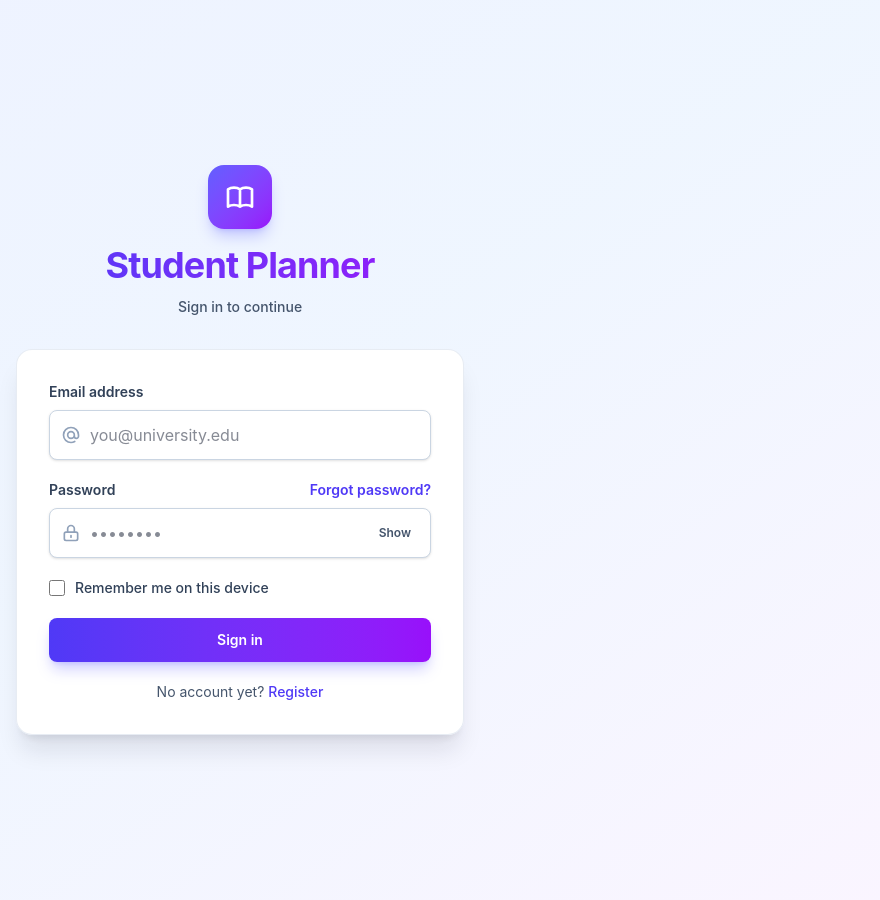
LoginPage › shows a top-right toast when login credentials are invalid
Type "test@example.com" into the field labelled "Email address".
click(240, 435); type("test@example.com")  # box x1=49 y1=410 x2=431 y2=460
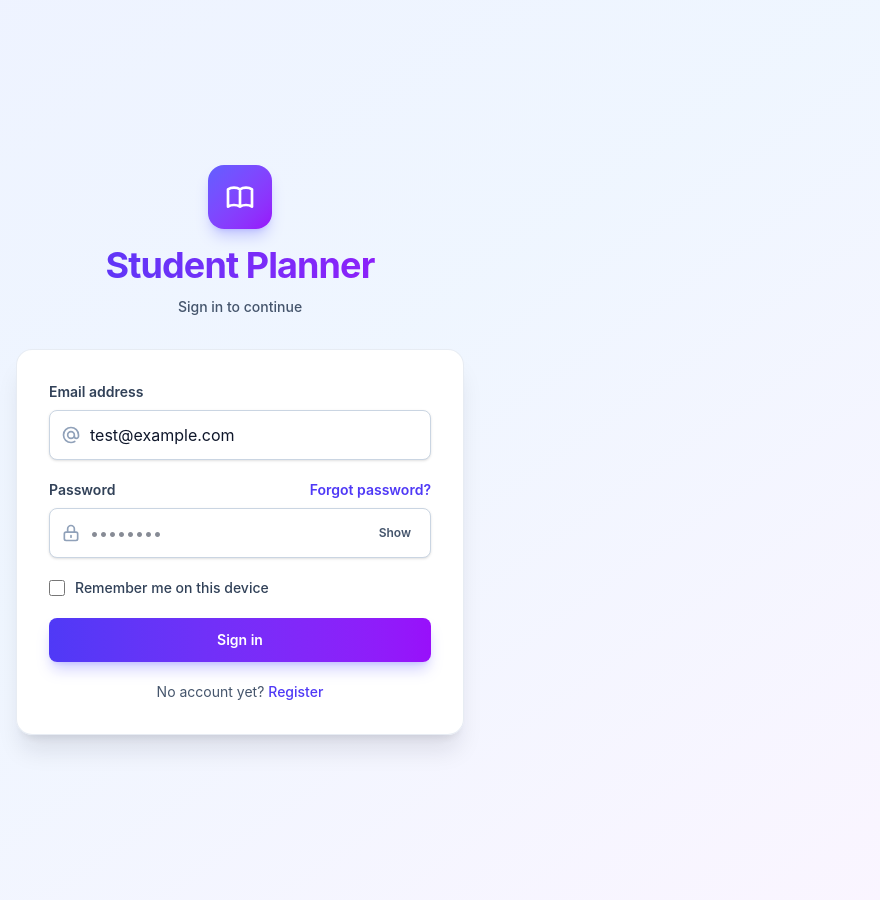
Type "wrongpassword" into the password field labelled "Password".
click(240, 533); type("wrongpassword")  # box x1=49 y1=508 x2=431 y2=558
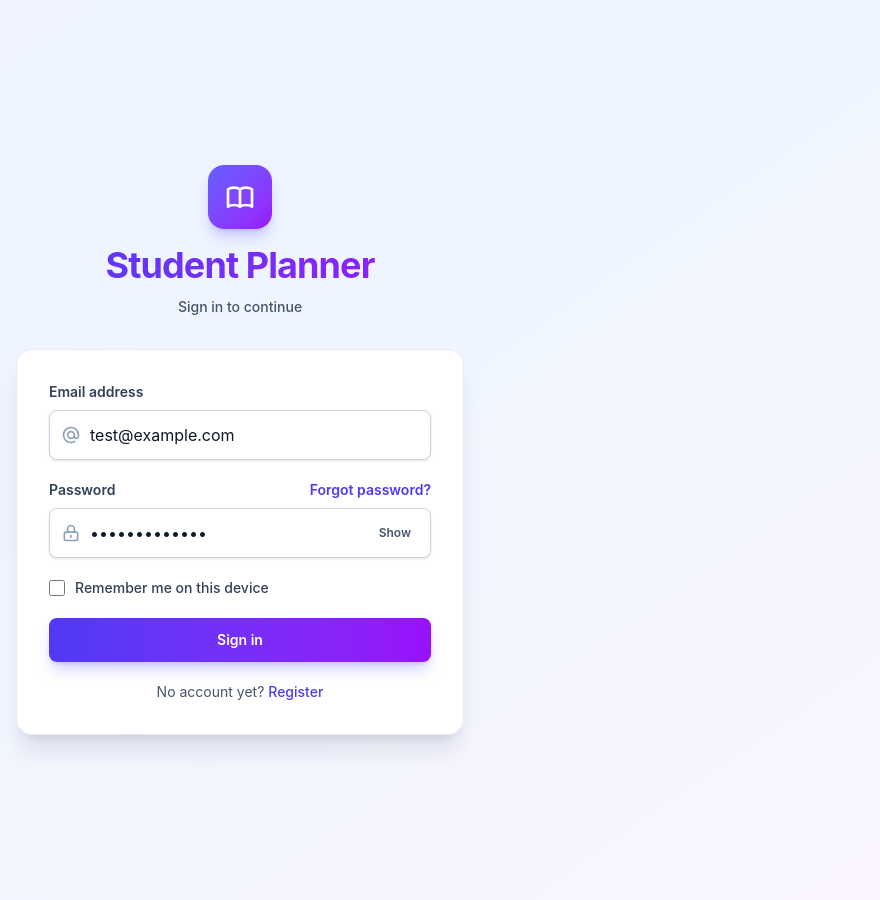
Click the button "Sign in".
click(240, 640)  # box x1=49 y1=618 x2=431 y2=662
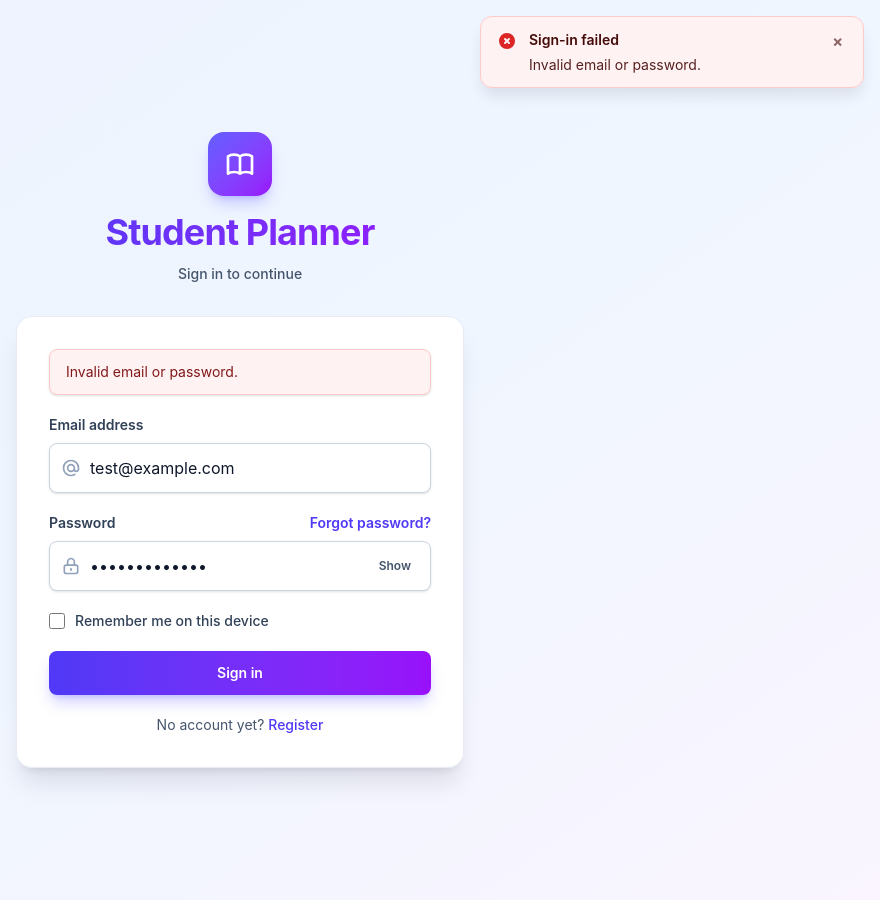
Now the message "Sign-in failed Invalid email or password. ×" is shown, box x1=480 y1=16 x2=864 y2=88
